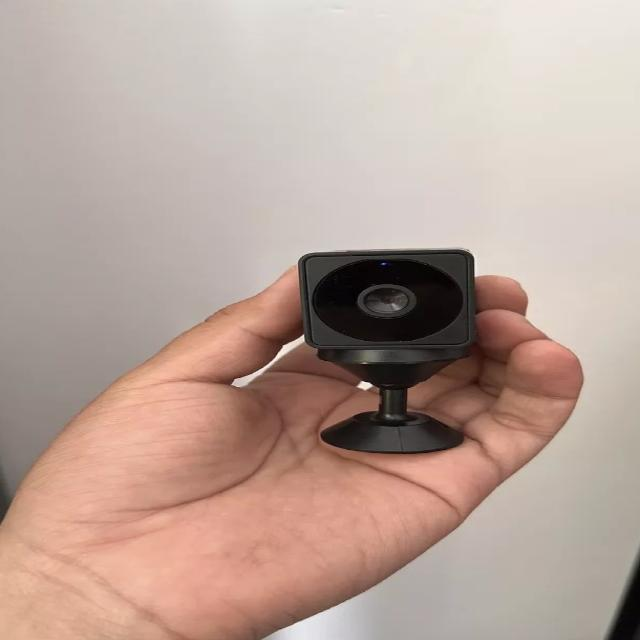hidden camera: (358, 285, 416, 319)
